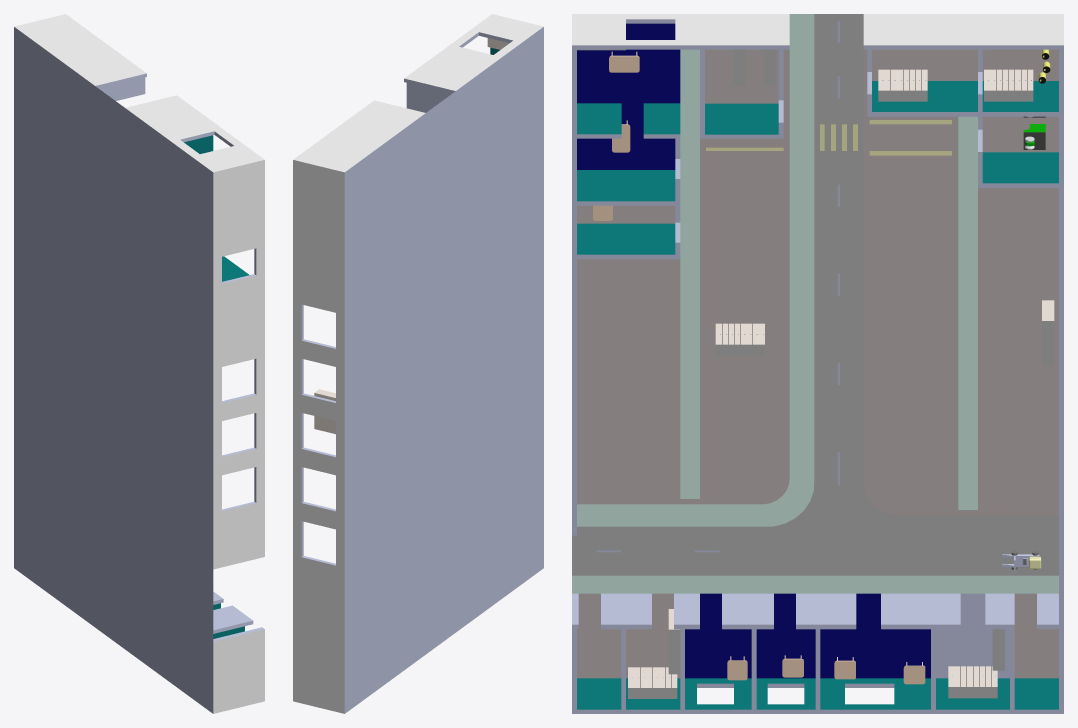
File: department.dae
The picture shows the model from 3 angles, left to right: view 1: azimuth 30°, elevation 25°; view 2: azimuth 150°, elevation 25°; view 3: azimuth 270°, elevation 25°; orthographic projection. The views are drawn at different scales.
Parts seen in each view (by area): view 1: _ncl1_8, _ncl1_10, _ncl1_12; view 2: _ncl1_8, _ncl1_10, _ncl1_79; view 3: _ncl1_6, _ncl1_2, _ncl1_14, _ncl1_8, _ncl1_12, FBXASC208FBXASC166FBXASC208FBXASC181FBXASC209FBXASC133FBXASC, _ncl1_10, _ncl1_4, _ncl1_58, _ncl1_55, _ncl1_82, _ncl1_20 (+1 smaller).
Boxes of the visible parts, left/top/right/bottom form: _ncl1_8: left=14, top=27, right=264, bottom=713; _ncl1_10: left=14, top=14, right=264, bottom=713; _ncl1_12: left=184, top=135, right=249, bottom=638; _ncl1_8: left=301, top=27, right=543, bottom=713; _ncl1_10: left=293, top=14, right=543, bottom=713; _ncl1_79: left=314, top=389, right=335, bottom=434; _ncl1_6: left=577, top=49, right=1058, bottom=678; _ncl1_2: left=572, top=14, right=1058, bottom=575; _ncl1_14: left=572, top=14, right=1058, bottom=593; _ncl1_8: left=572, top=19, right=1063, bottom=713; _ncl1_12: left=577, top=81, right=1058, bottom=709; FBXASC208FBXASC166FBXASC208FBXASC181FBXASC209FBXASC133FBXASC: left=577, top=23, right=930, bottom=678; _ncl1_10: left=572, top=14, right=1063, bottom=45; _ncl1_4: left=706, top=120, right=951, bottom=155; _ncl1_58: left=878, top=69, right=927, bottom=90; _ncl1_55: left=984, top=69, right=1033, bottom=90; _ncl1_82: left=715, top=323, right=764, bottom=344; _ncl1_20: left=948, top=666, right=997, bottom=686.
Bounding box in the file's own units: 3 × 30 × 20.
